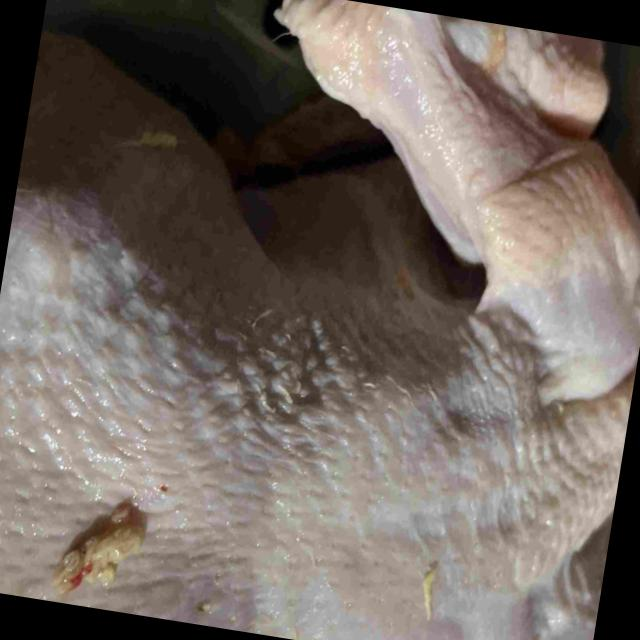back: (0, 209, 515, 640)
leg: (23, 34, 209, 165)
neck: (513, 369, 636, 577)
wing: (277, 0, 640, 390), (504, 505, 615, 640)
